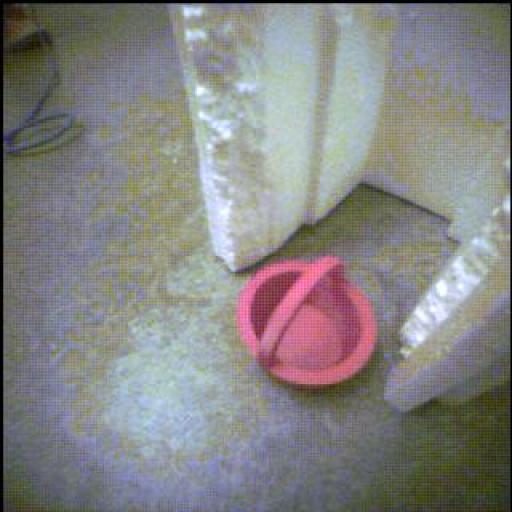Bucket: (238, 257, 377, 388)
